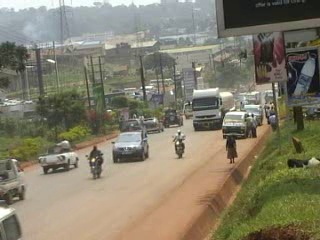Car: (111, 127, 150, 165), (116, 117, 148, 138), (140, 115, 167, 135), (162, 106, 186, 128)
Motorcycle: (82, 144, 106, 181), (169, 128, 188, 159)
